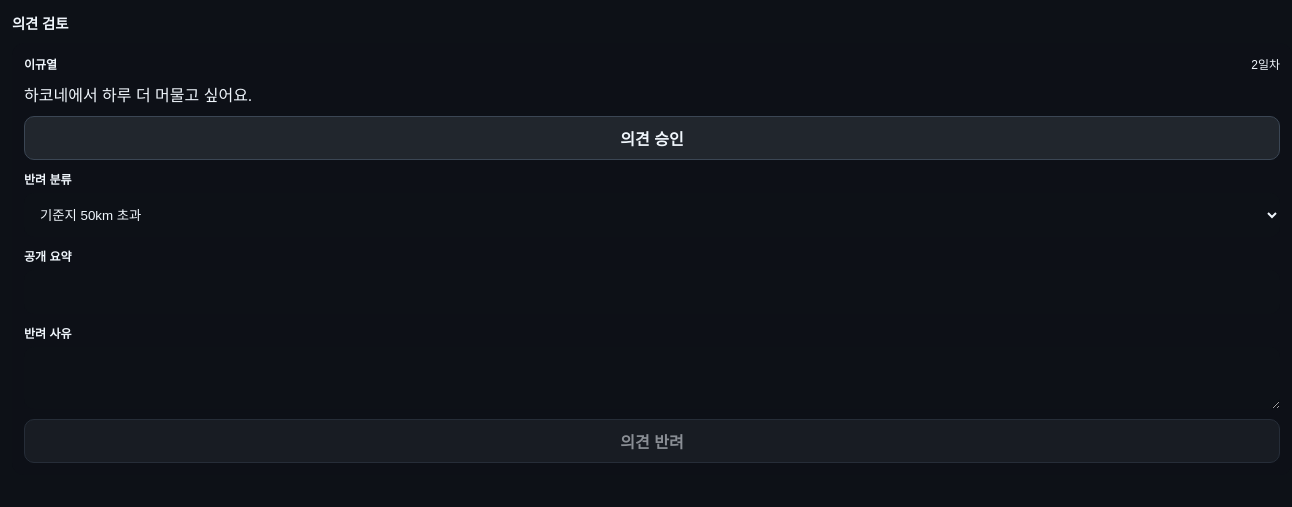
AdminReviewControls › surfaces a refresh failure after the mutation succeeds
The width and height of the screenshot is (1292, 507).
Click the button "의견 승인".
click(652, 138)  # box [24,116,1280,160]
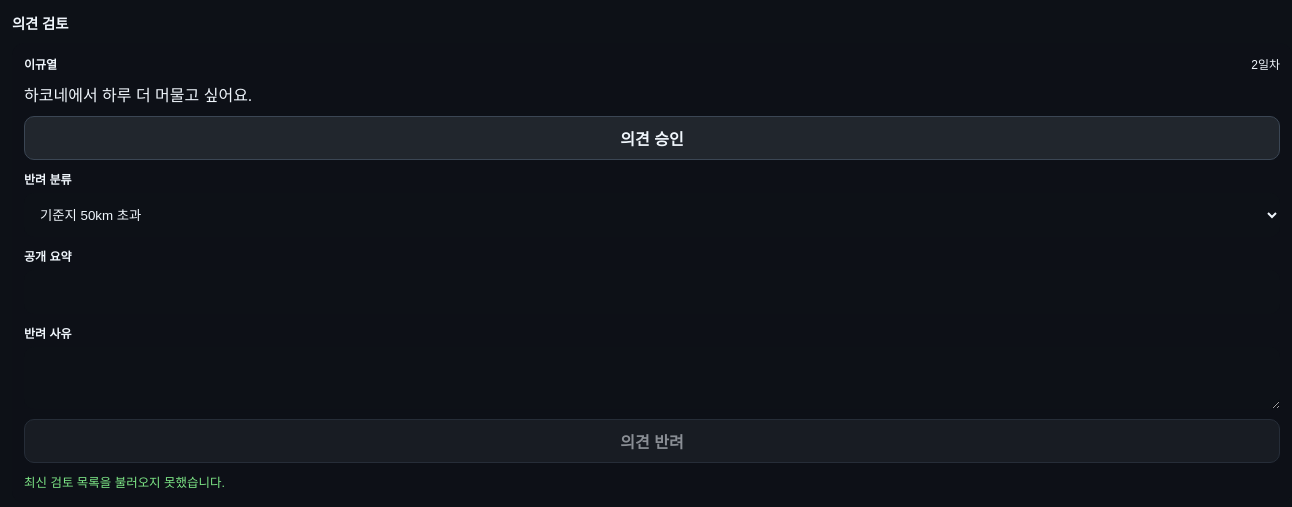
Check: the message reads "최신 검토 목록을 불러오지 못했습니다.", box [24,476,225,490]
